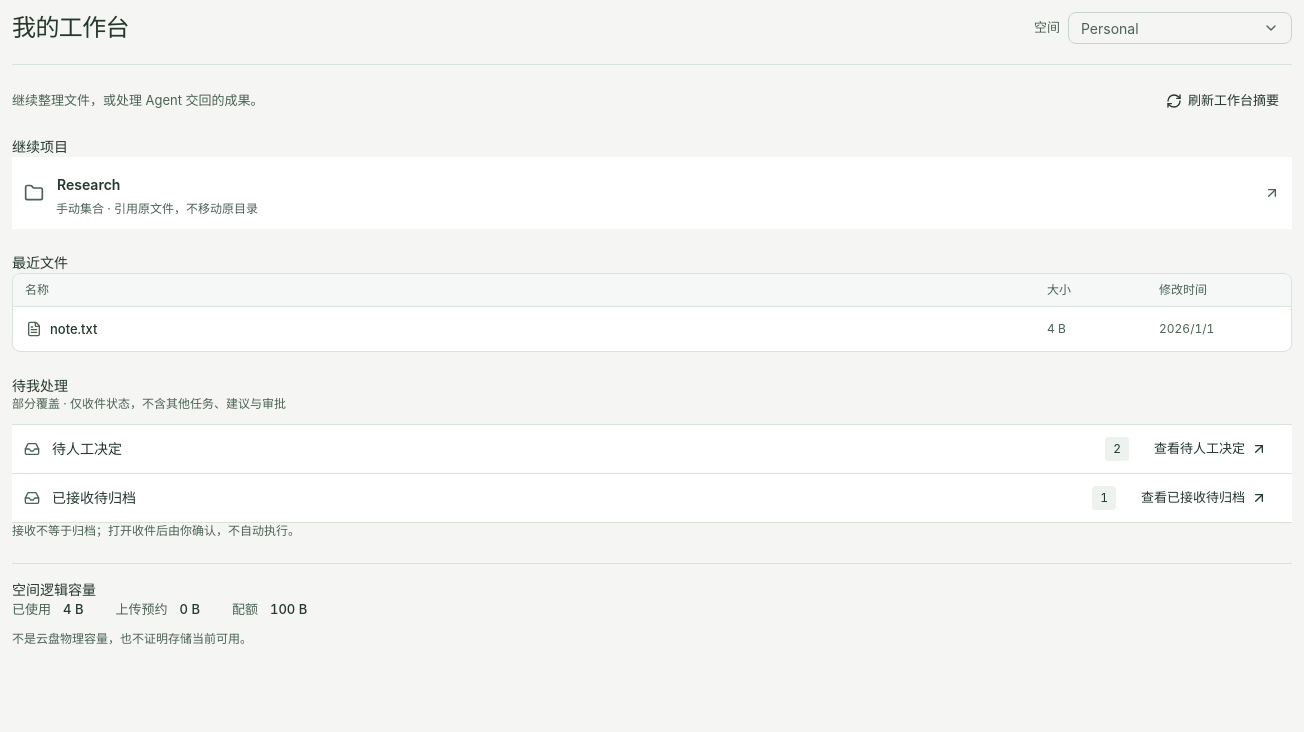
clears the summary when fixed-reference authorization returns 403
This screenshot has width=1304, height=732.
Click the button with aria-label "查看固定引用：note.txt": (74, 329) [25, 311, 1023, 347]
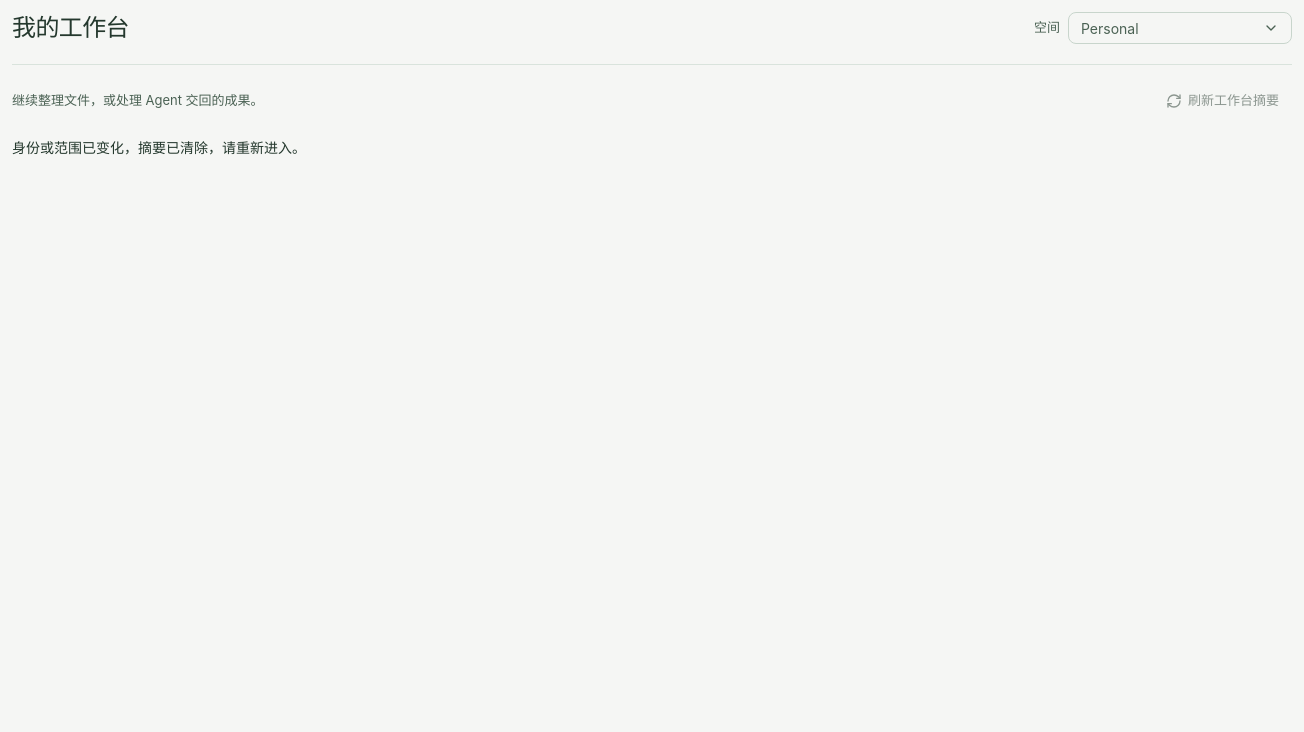
Now the text "身份或范围已变化，摘要已清除，请重新进入。" is shown, box [12, 139, 306, 156]
Now the button "Research" is gone
